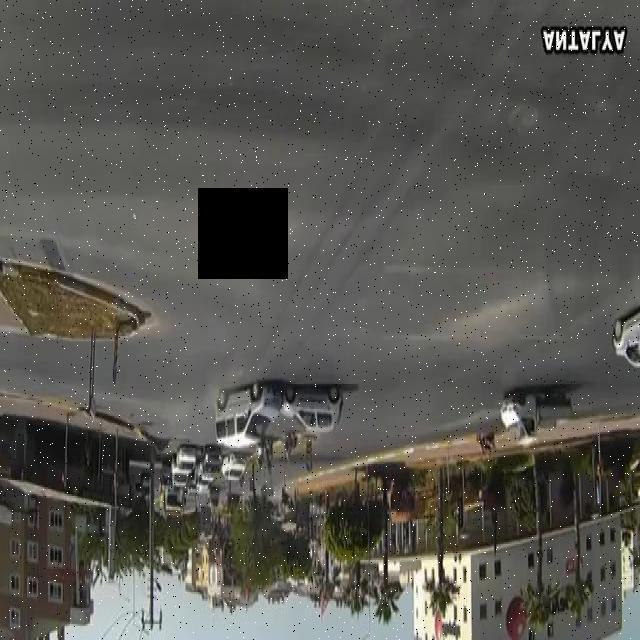crash: (205, 365, 358, 454)
